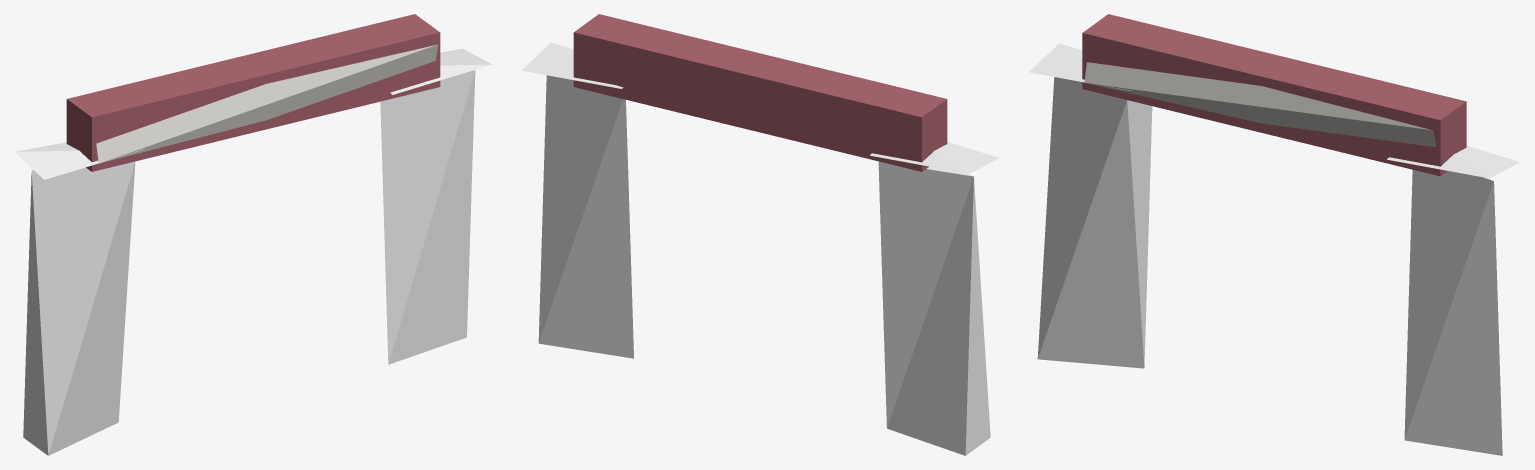
File: Arch_M11_MarqueeGate_LOD1.glb
The picture shows the model from 3 angles, left to right: view 1: azimuth 30°, elevation 25°; view 2: azimuth 150°, elevation 25°; view 3: azimuth 330°, elevation 25°; orthographic projection. The views are drawn at different scales.
Visible parts, largest first — view 1: Arch_M11_MarqueeGate_LOD1; view 2: Arch_M11_MarqueeGate_LOD1; view 3: Arch_M11_MarqueeGate_LOD1.
Boxes of the visible parts, x1,y1,x2,y2 form: Arch_M11_MarqueeGate_LOD1: (14, 14, 492, 455); Arch_M11_MarqueeGate_LOD1: (521, 14, 998, 455); Arch_M11_MarqueeGate_LOD1: (1028, 14, 1519, 455).
Size of the model in its own units: 10.3 by 7.2 by 1.2.
